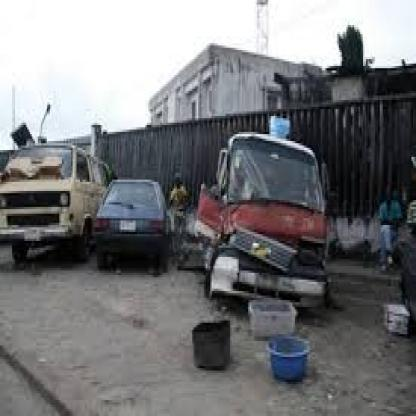car: (0, 114, 134, 271), (93, 166, 200, 281)
